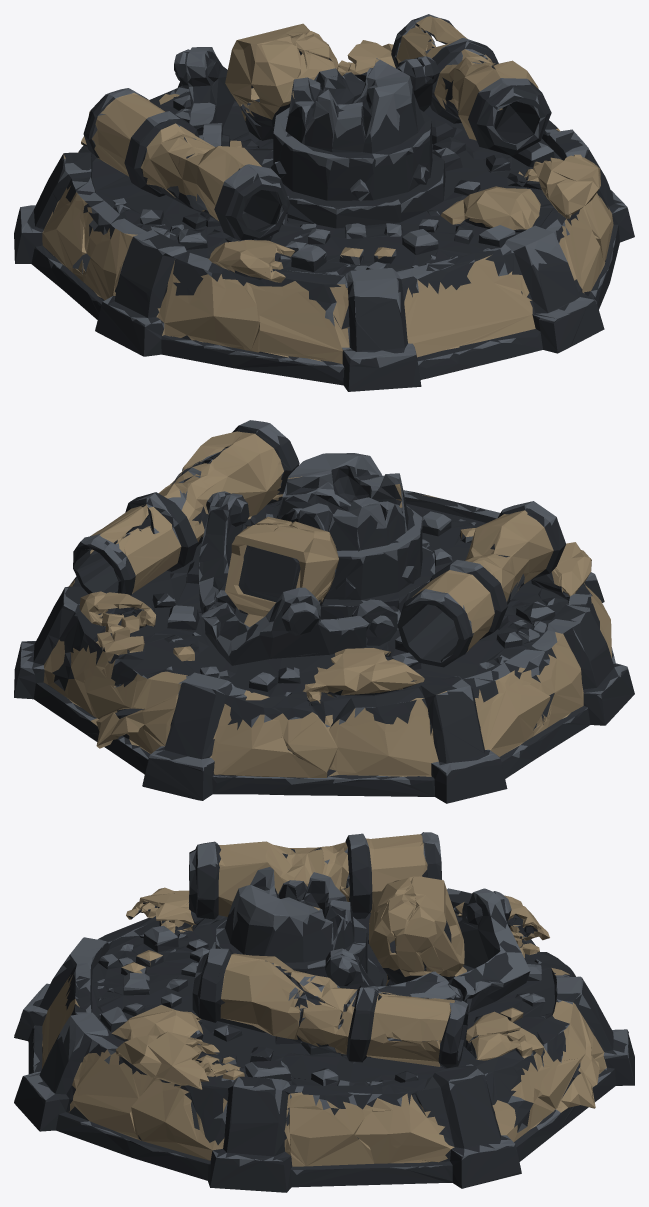
The model's file is lm2-lanza-destruida.glb.
3 renders of one model, top to bottom at view 1: azimuth 30°, elevation 25°; view 2: azimuth 150°, elevation 25°; view 3: azimuth 270°, elevation 25°, orthographic. The views are drawn at different scales.
Visible parts, largest first — view 1: hull; view 2: hull; view 3: hull.
Boxes of the visible parts, left/top/right/bottom form: hull: left=14, top=14, right=634, bottom=391; hull: left=14, top=420, right=634, bottom=803; hull: left=14, top=832, right=634, bottom=1192.
Bounding box in the file's own units: 0.9286 × 0.3364 × 0.9989.
